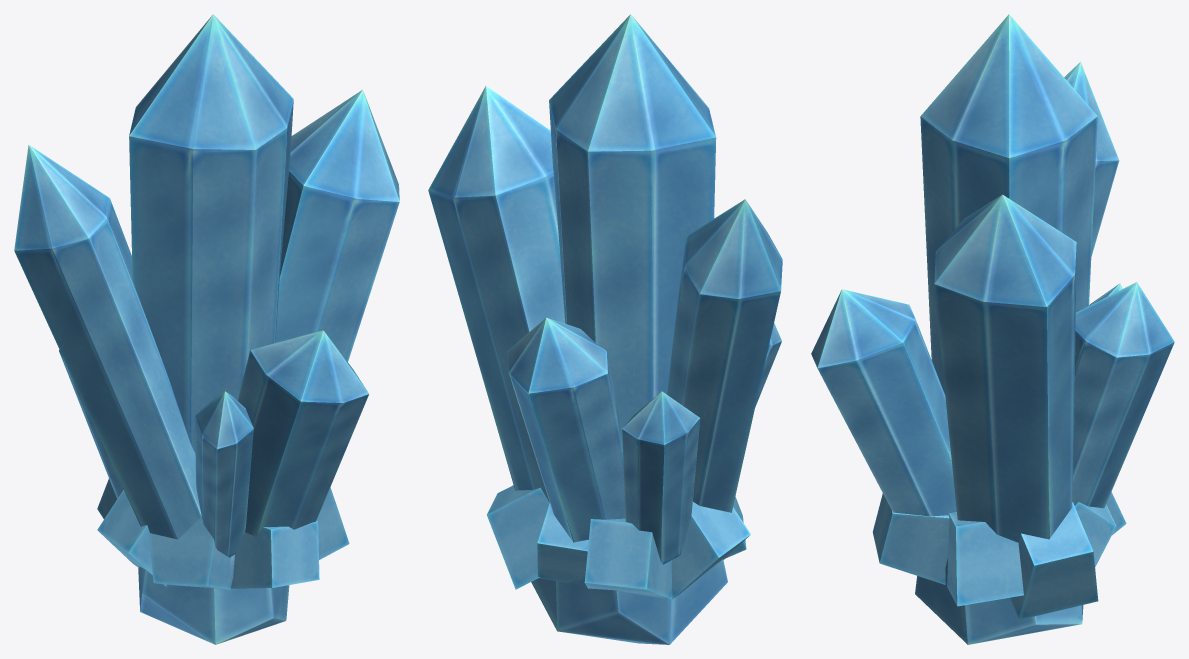
The model's file is sorrowobject.fbx.
3 renders of one model, left to right at view 1: azimuth 30°, elevation 25°; view 2: azimuth 150°, elevation 25°; view 3: azimuth 270°, elevation 25°, orthographic.
Visible parts, largest first — view 1: obj_sorrow; view 2: obj_sorrow; view 3: obj_sorrow.
Boxes of the visible parts, left/top/right/bottom form: obj_sorrow: left=14, top=14, right=399, bottom=644; obj_sorrow: left=428, top=14, right=782, bottom=644; obj_sorrow: left=811, top=14, right=1174, bottom=644.
Size of the model in its own units: 129 by 216 by 114.
